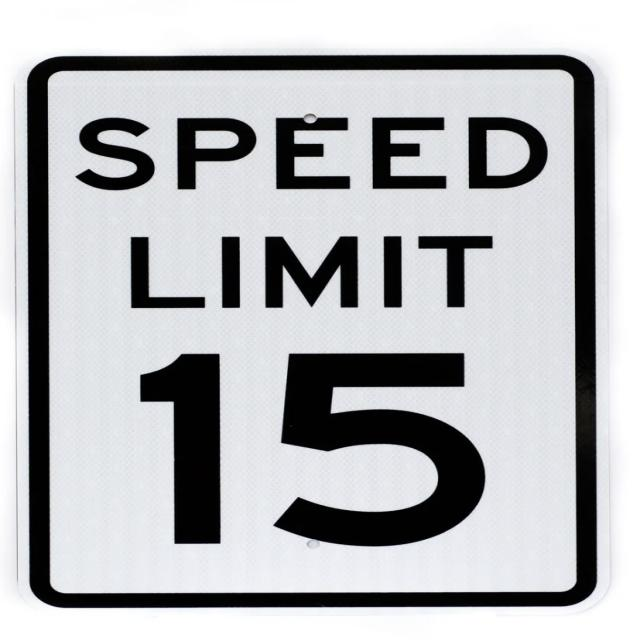speedLimit15: (39, 59, 594, 602)
